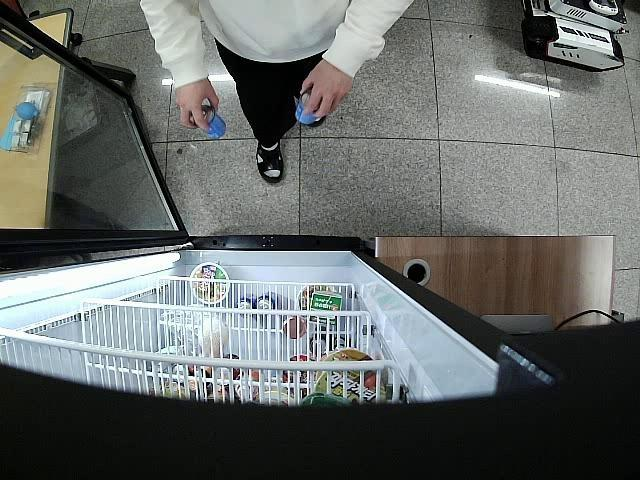15_letsbe: (192, 106, 229, 139), (296, 92, 320, 124)
